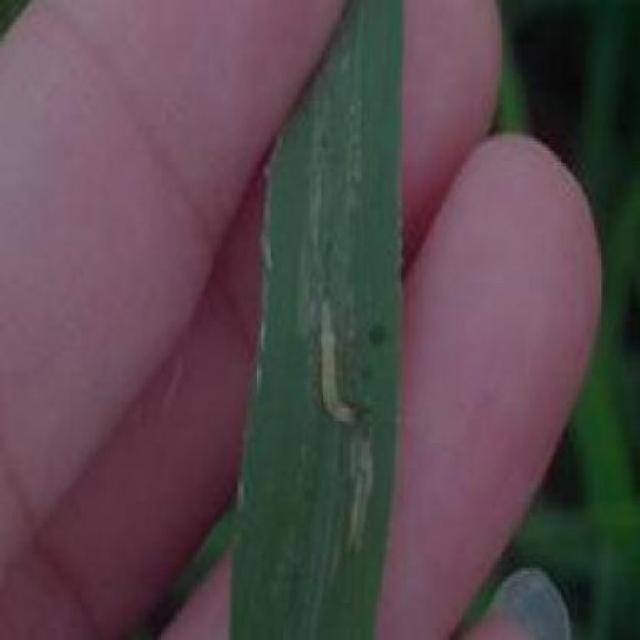leaf-folder: (311, 300, 389, 463)
